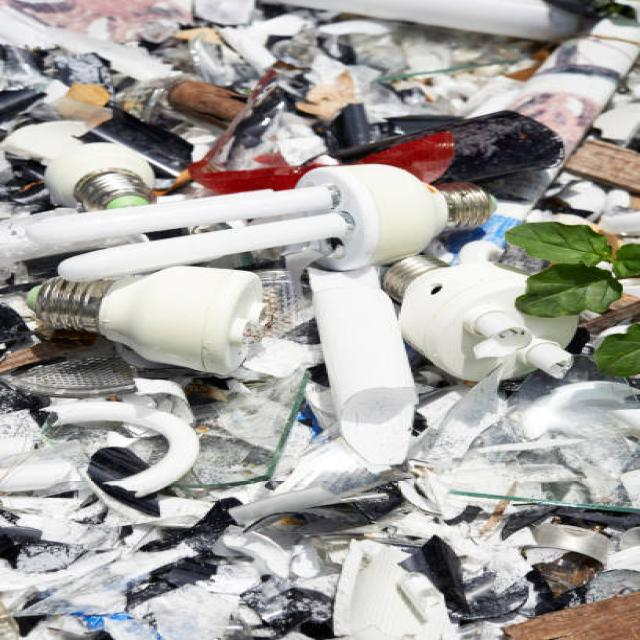glass: (44, 415, 590, 617), (17, 14, 612, 170)
